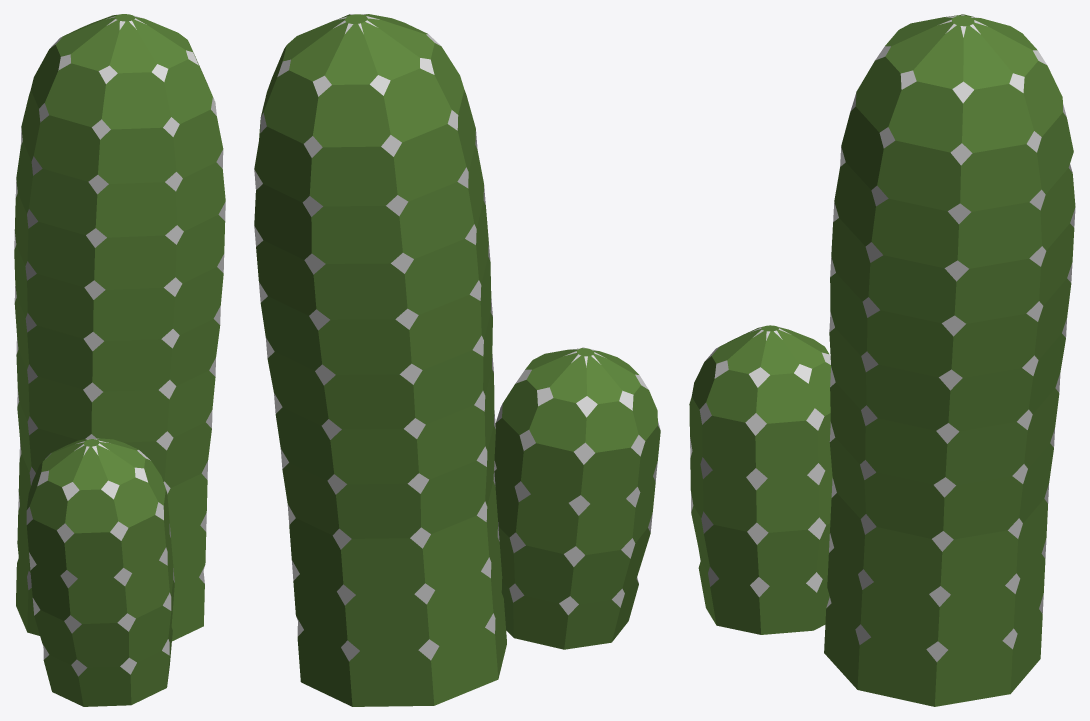
The model's file is Plant_Cactus.fbx.
The picture shows the model from 3 angles, left to right: view 1: azimuth 30°, elevation 25°; view 2: azimuth 150°, elevation 25°; view 3: azimuth 270°, elevation 25°; orthographic projection. The views are drawn at different scales.
Visible parts, largest first — view 1: Cube; view 2: Cube; view 3: Cube.
Boxes of the visible parts, left/top/right/bottom form: Cube: left=14, top=14, right=225, bottom=706; Cube: left=254, top=14, right=660, bottom=706; Cube: left=689, top=14, right=1075, bottom=706.
Size of the model in its own units: 27.6 by 59.1 by 31.41.
